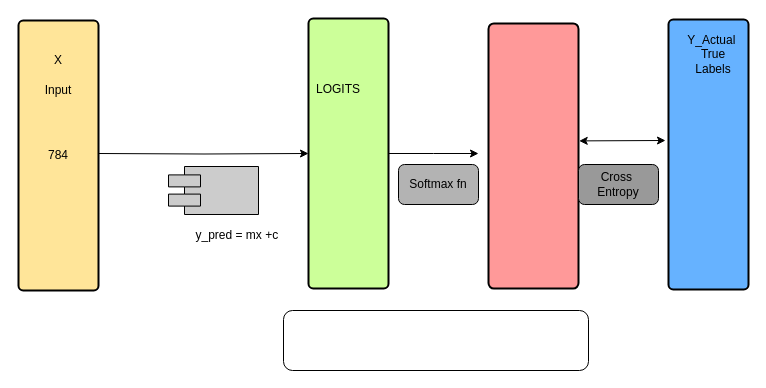
Some shapes in this 766 by 388 pixel diagram are drawn without their labels. The shapes that lost their labels are listed below. From the top down, each one's centre as x and y in pixels, then its label:
At pixel 533 155: "Softmax".
At pixel 213 190: "Linear Function".
At pixel 435 340: "Readout Layer".
